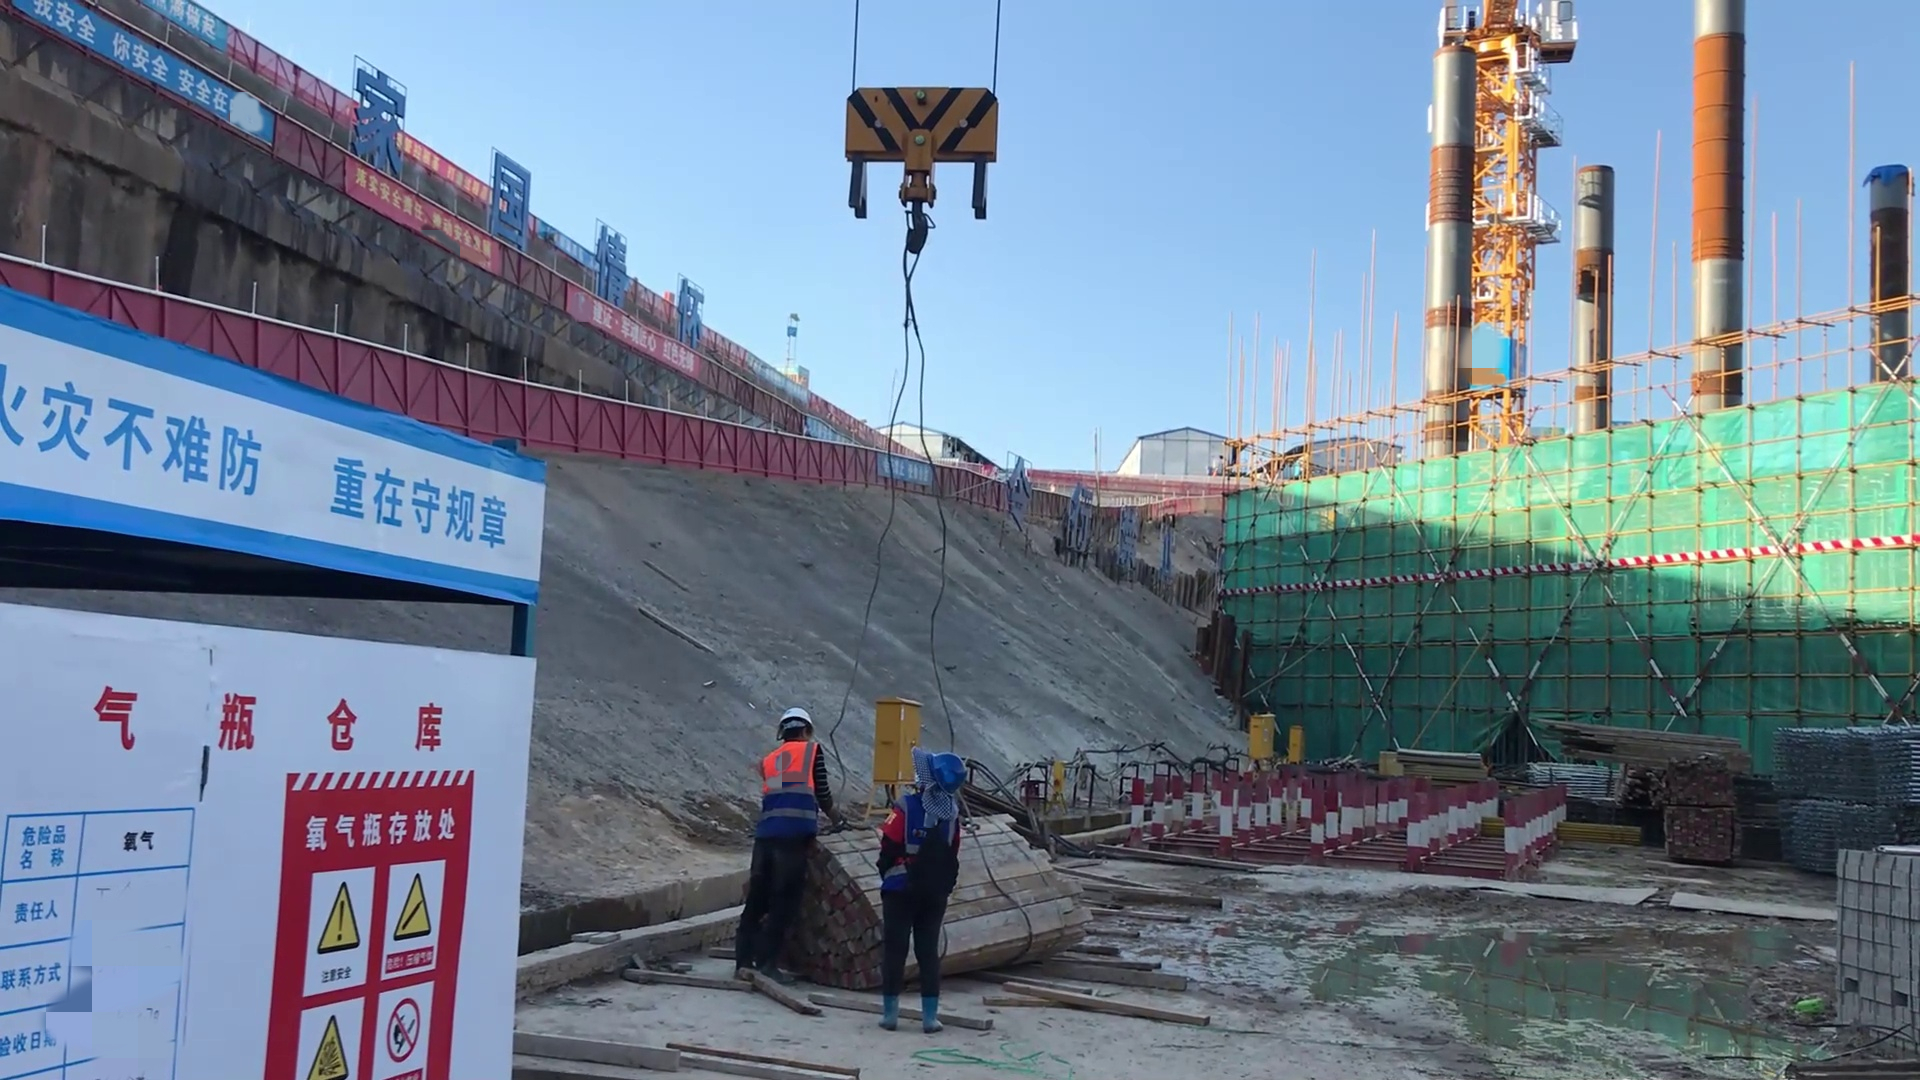brick: (1803, 849, 1920, 1049)
ebox: (860, 693, 937, 789), (1247, 710, 1276, 753), (1284, 723, 1300, 763)
fence: (552, 383, 773, 476), (771, 430, 885, 497)
helmet: (910, 748, 977, 792), (779, 704, 809, 743)
hook: (833, 78, 1019, 231)
person: (734, 696, 819, 974), (880, 741, 955, 1041)
scaffold: (1784, 724, 1920, 822)
slogan: (1, 360, 504, 586), (278, 852, 455, 1080), (34, 1, 258, 167), (314, 155, 514, 279)
vest: (758, 741, 809, 793)
wood: (1067, 852, 1222, 1045), (1525, 702, 1771, 802), (949, 816, 1081, 976)
